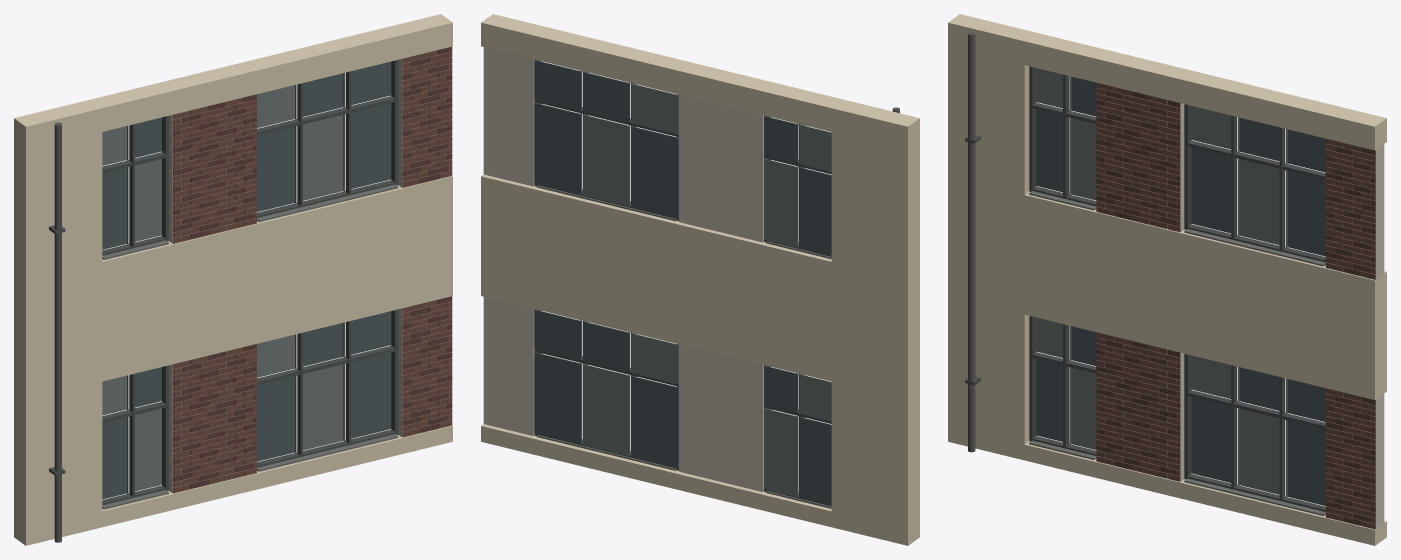
Rendered from xuhui-cavendish-court-street-window-bands-raw.glb.
3 views of the same model, side by side, from view 1: azimuth 30°, elevation 25°; view 2: azimuth 150°, elevation 25°; view 3: azimuth 330°, elevation 25° (orthographic).
Visible parts, largest first — view 1: 凯文公寓北楼沿街红砖带与钢窗; view 2: 凯文公寓北楼沿街红砖带与钢窗; view 3: 凯文公寓北楼沿街红砖带与钢窗.
Part boxes in pixels (box(x1,y1,x2,y2)): 凯文公寓北楼沿街红砖带与钢窗: box(14, 14, 452, 545); 凯文公寓北楼沿街红砖带与钢窗: box(481, 14, 919, 545); 凯文公寓北楼沿街红砖带与钢窗: box(948, 14, 1386, 545).
Bounding box in the file's own units: 5.64 × 5.29 × 0.4143.
